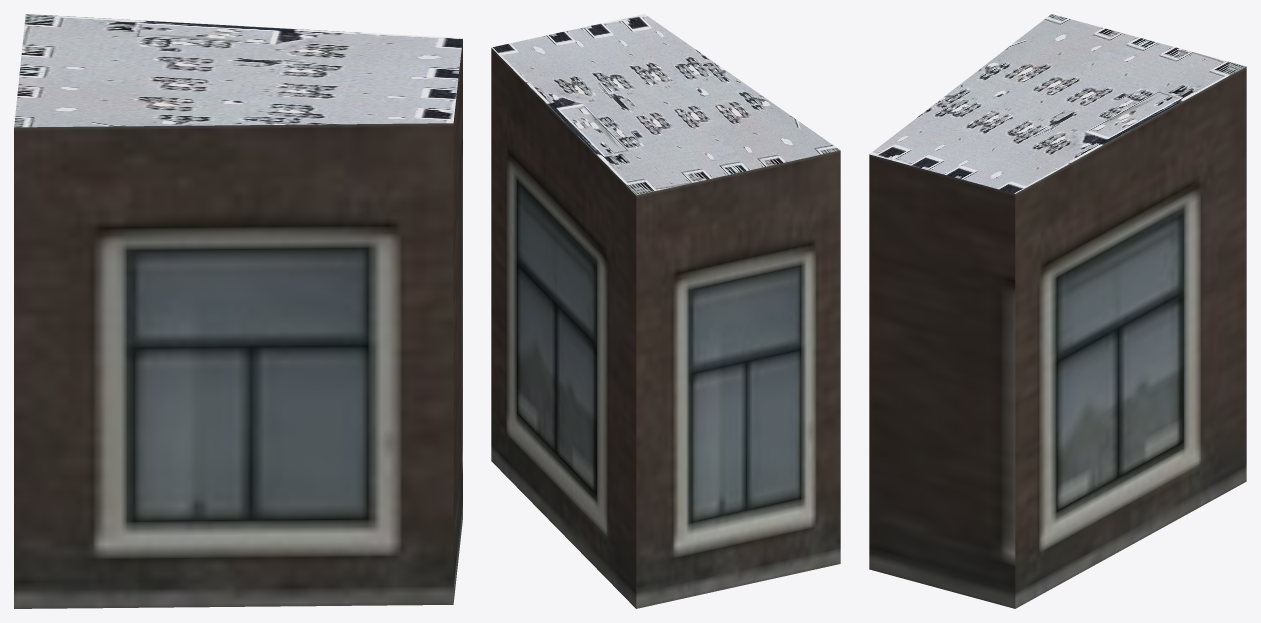
Rendered from ResTex__4992.fbx.
3 views of the same model, side by side, from view 1: azimuth 30°, elevation 25°; view 2: azimuth 150°, elevation 25°; view 3: azimuth 270°, elevation 25° (orthographic). The views are drawn at different scales.
Visible parts, largest first — view 1: CityEngineMaterial_16_m, CityEngineMaterial_15_m; view 2: CityEngineMaterial_16_m, CityEngineMaterial_15_m; view 3: CityEngineMaterial_16_m, CityEngineMaterial_15_m.
Boxes of the visible parts, x1=… form: CityEngineMaterial_16_m: x1=14, y1=39, x2=462, y2=608; CityEngineMaterial_15_m: x1=14, y1=14, x2=462, y2=127; CityEngineMaterial_16_m: x1=491, y1=48, x2=840, y2=608; CityEngineMaterial_15_m: x1=491, y1=14, x2=839, y2=195; CityEngineMaterial_16_m: x1=869, y1=66, x2=1246, y2=608; CityEngineMaterial_15_m: x1=869, y1=14, x2=1246, y2=193.
Size of the model in its own units: 2.79 by 3 by 2.47.
2 materials, 2 textured.
